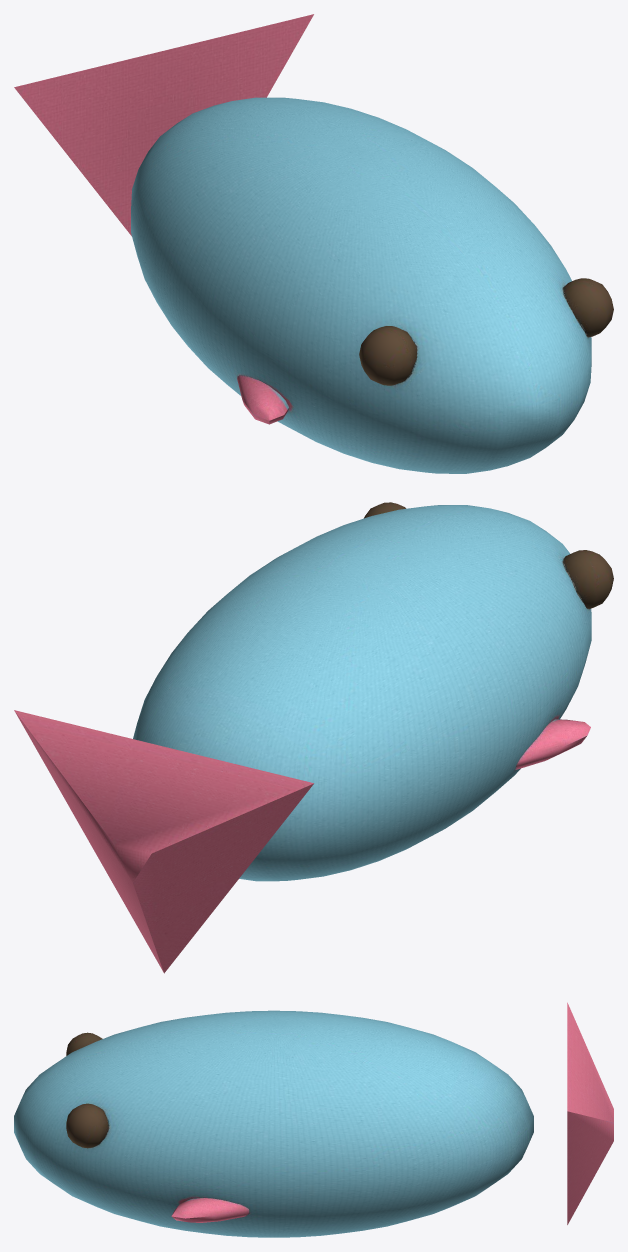
File: catnip_fish.glb
3 renders of one model, top to bottom at view 1: azimuth 30°, elevation 25°; view 2: azimuth 150°, elevation 25°; view 3: azimuth 270°, elevation 25°, orthographic. The views are drawn at different scales.
Visible parts, largest first — view 1: catnip_fish; view 2: catnip_fish; view 3: catnip_fish.
Boxes of the visible parts, bbox=[...] form: catnip_fish: bbox=[14, 14, 613, 473]; catnip_fish: bbox=[14, 502, 613, 973]; catnip_fish: bbox=[14, 1002, 613, 1237].
Size of the model in its own units: 0.1537 by 0.1188 by 0.322.
1 material, 1 textured.
